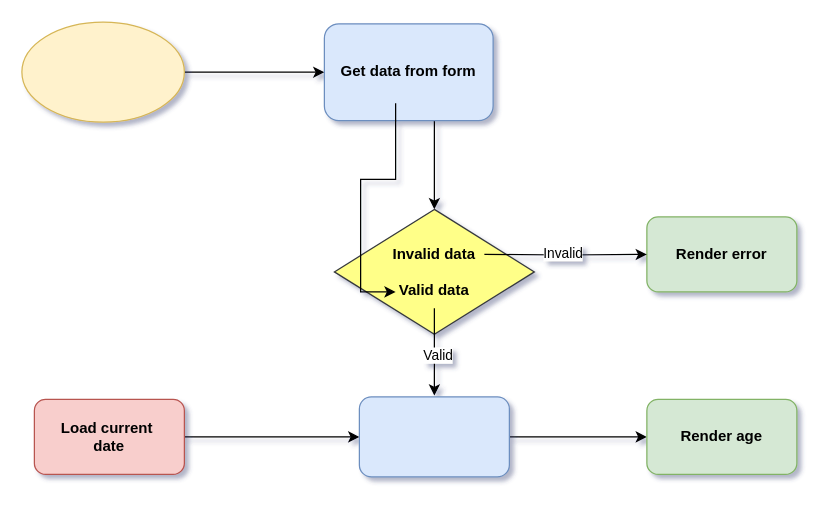
The diagram is 826 pixels wide and 506 high, and some of its shapes have lost their labels. The centre of each missing label's shape, as x and y in pixels:
Calculate age: the point at 433,436
User click on submit button: the point at 102,71
